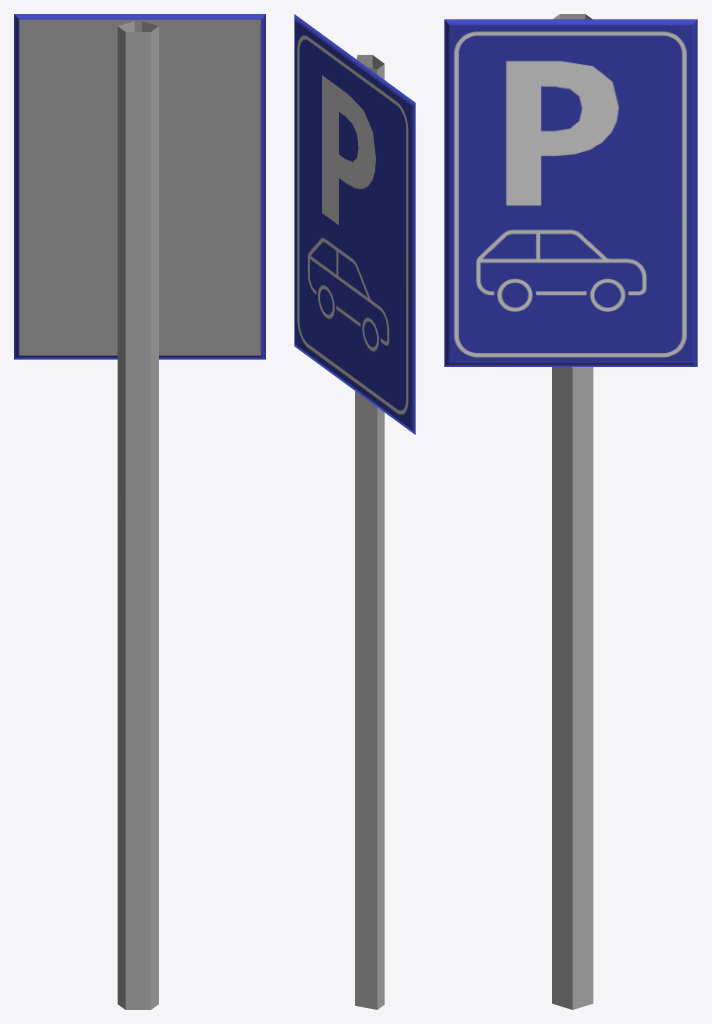
File: Traffic_PARK_FBX.fbx
3 renders of one model, left to right at view 1: azimuth 90°, elevation 25°; view 2: azimuth 210°, elevation 25°; view 3: azimuth 270°, elevation 25°, orthographic. The views are drawn at different scales.
Parts seen in each view (by area): view 1: pCube11; view 2: pCube11; view 3: pCube11.
Part boxes in pixels (x1=…): pCube11: x1=14, y1=14, x2=265, y2=1009; pCube11: x1=294, y1=14, x2=415, y2=1009; pCube11: x1=444, y1=14, x2=697, y2=1009.
Bounding box in the file's own units: 0.0971 × 3.55 × 0.8226.
Materials: 1 (1 with a texture image).
